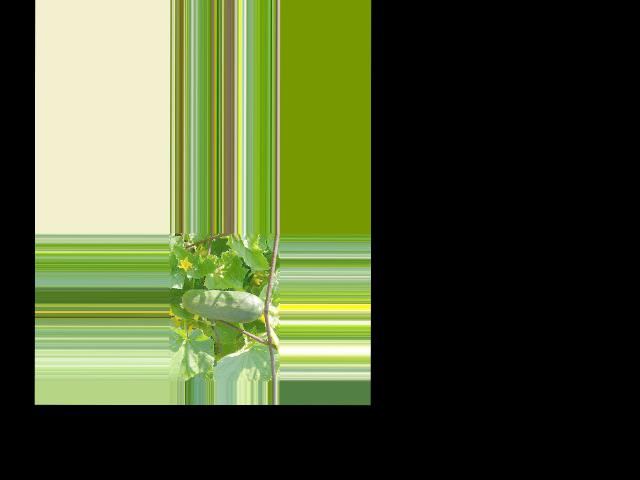cucumber: (181, 289, 264, 324)
